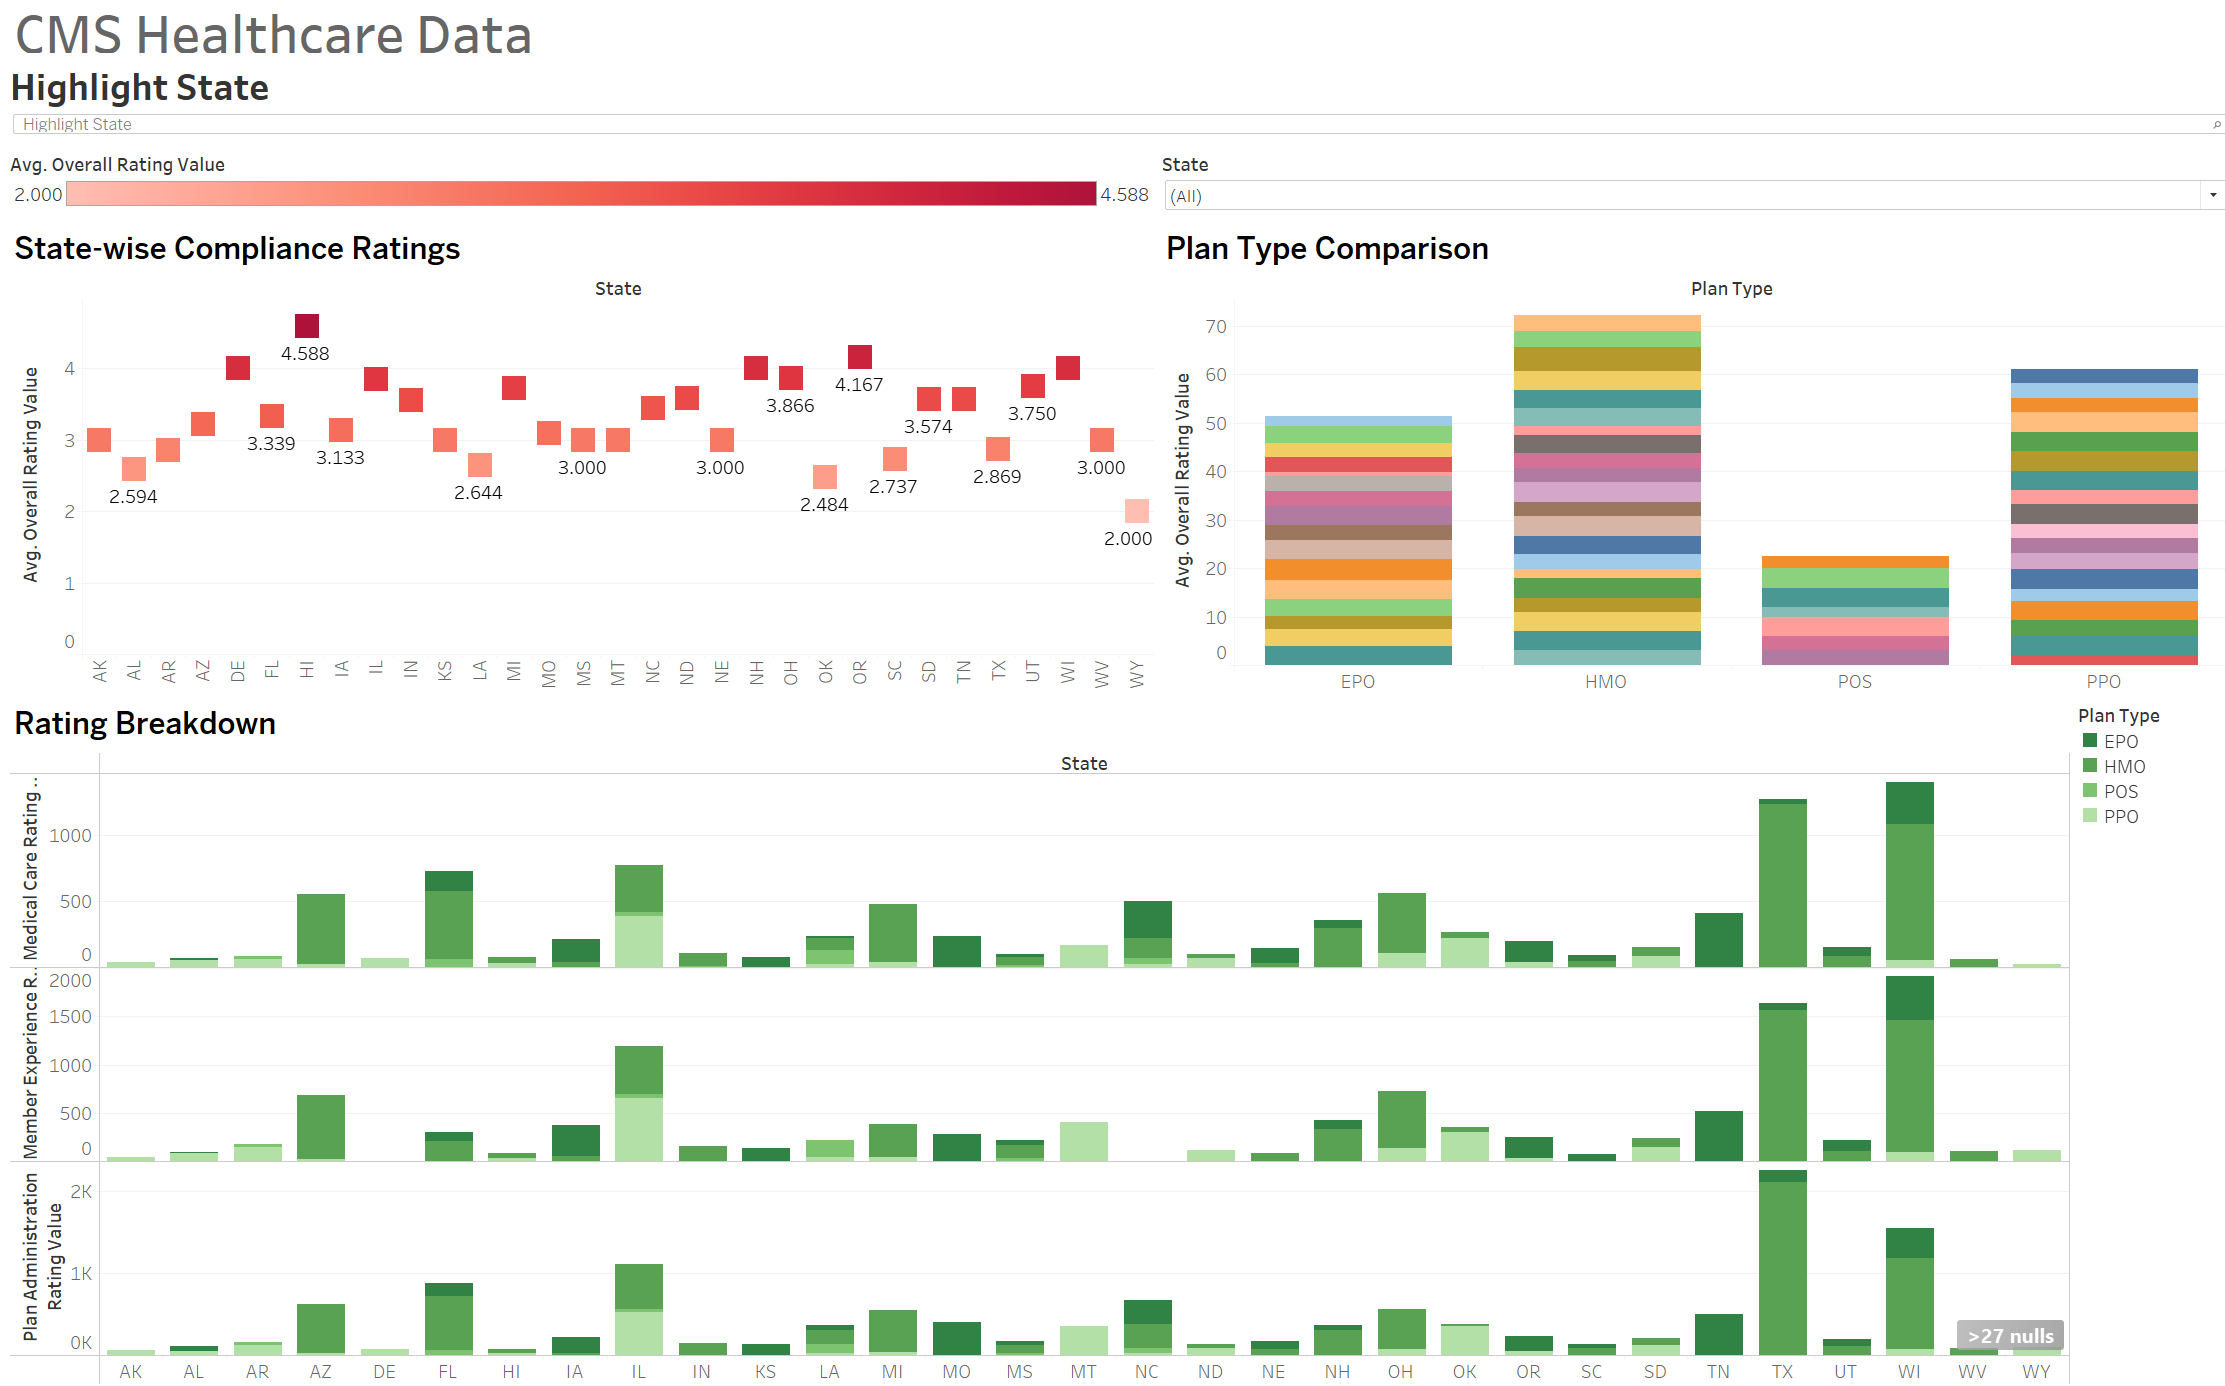

The page's visual inventory and layout, read from the dashboard file:
{"tool":"tableau","page":{"name":"Dashboard 1","canvas":[1000,1000],"units":"permille","ordinal":0},"visuals":[{"type":"text","box":[3.6,5.7,992.9,35.8]},{"type":"highlighter","title":"Plan Type Comparison","param":"[federated.11j7fs11shki961cb3f6h0jgfkir].[none:State:nk]","box":[3.6,41.5,992.9,64.4]},{"type":"legend","title":"State-wise Compliance Ratings ","param":"[federated.11j7fs11shki961cb3f6h0jgfkir].[avg:OverallRatingValue:qk]","box":[3.6,105.9,513.4,54.4]},{"type":"filter","title":"Plan Type Comparison","param":"[federated.11j7fs11shki961cb3f6h0jgfkir].[none:State:nk]","box":[516.9,105.9,479.5,54.2]},{"type":"worksheet","title":"Plan Type Comparison","mark":"Bar","rows":["OverallRatingValue"],"cols":["Plan Type"],"box":[516.9,160.1,479.5,339.9]},{"type":"worksheet","title":"State-wise Compliance Ratings ","mark":"Square","rows":["OverallRatingValue"],"cols":["State"],"box":[3.6,160.2,513.4,339.8]},{"type":"worksheet","title":"Rating Breakdown ","mark":"Automatic","rows":["MedicalCareRatingValue","MemberExperienceRatingValue","PlanAdministrationRatingValue"],"cols":["State"],"box":[3.6,500,921.6,494.3]},{"type":"legend","title":"Rating Breakdown ","param":"[federated.11j7fs11shki961cb3f6h0jgfkir].[none:Plan Type:nk]","box":[925.1,500,71.3,494.3]}]}

Visuals, with their boxes on the dashboard's canvas, which has no fixed pixel size, in thousandths of its width and height (x1, y1, x2, y2). These are canvas units, not pixel positions in the 2225x1386 screenshot, which may show the page scaled, cropped or inside an application window:
text: box(4, 6, 996, 42)
"Plan Type Comparison" highlighter: box(4, 42, 996, 106)
"State-wise Compliance Ratings " legend: box(4, 106, 517, 160)
"Plan Type Comparison" filter: box(517, 106, 996, 160)
"Plan Type Comparison" worksheet (Bar marks): box(517, 160, 996, 500)
"State-wise Compliance Ratings " worksheet (Square marks): box(4, 160, 517, 500)
"Rating Breakdown " worksheet: box(4, 500, 925, 994)
"Rating Breakdown " legend: box(925, 500, 996, 994)
